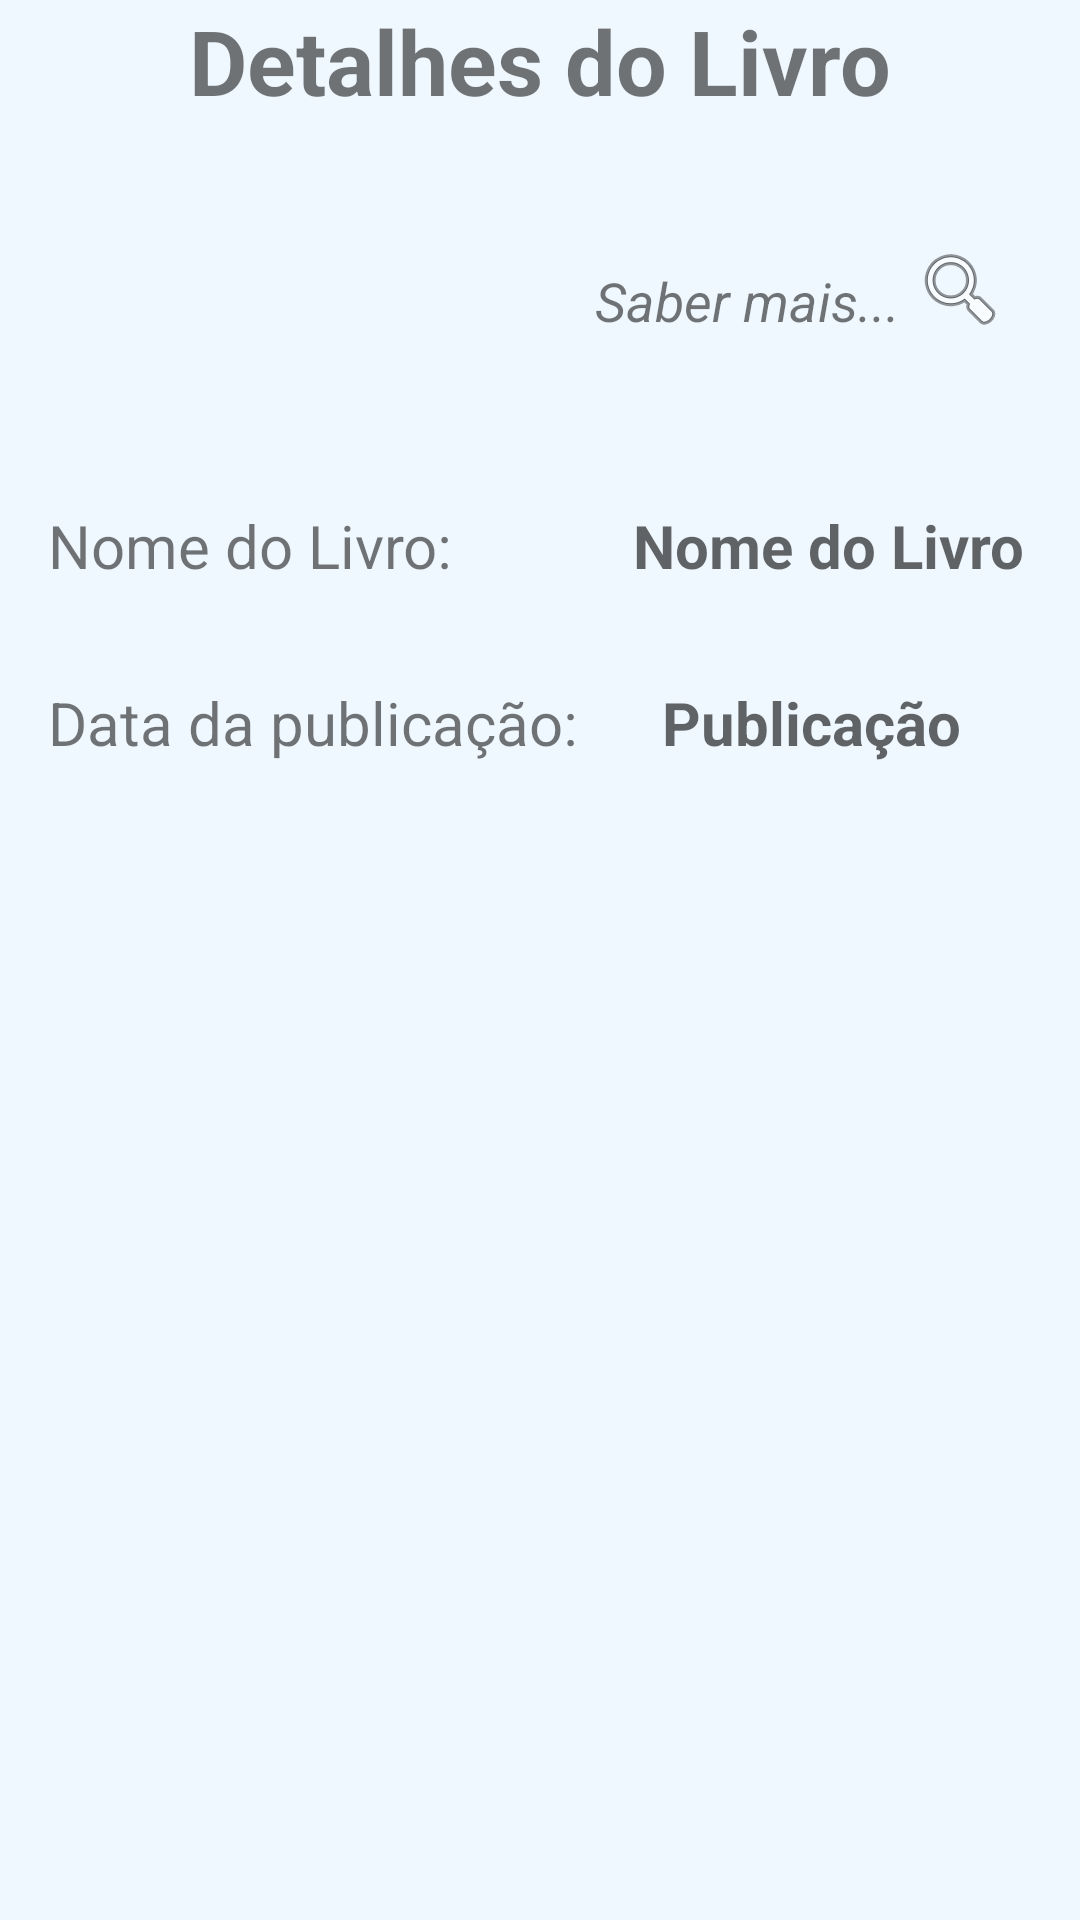

Icon click points for this 1080w x 1920h phone screenshot, format (x=x, y=y):
search: (x=960, y=289)
